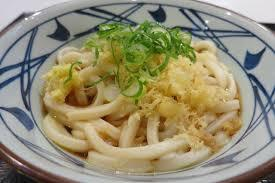bukkake: (3, 5, 275, 180)
